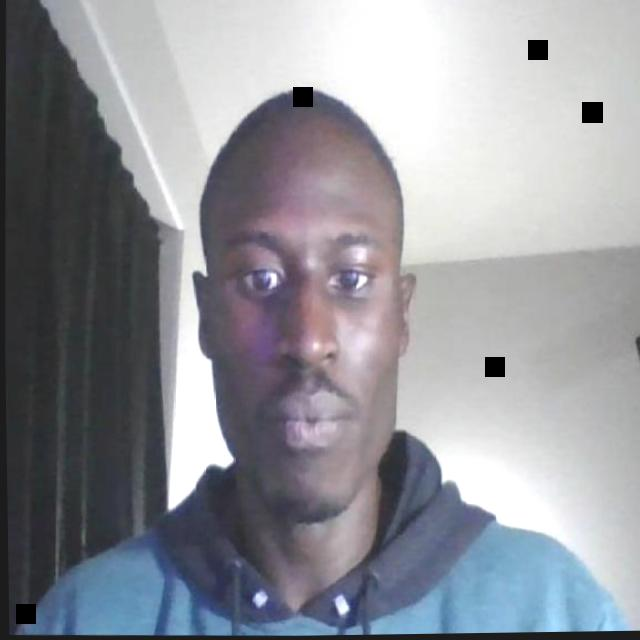NO-Mask: (199, 136, 406, 526)
